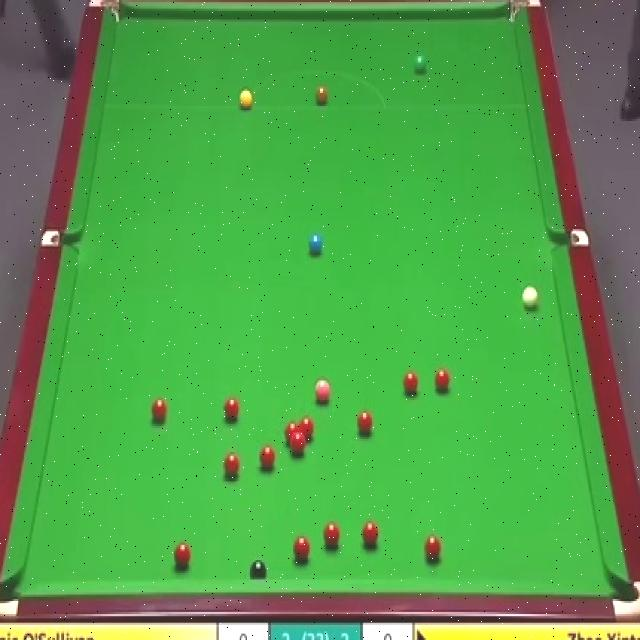black-ball: (249, 560, 267, 580)
blue-ball: (307, 229, 323, 257)
brown-ball: (315, 86, 328, 105)
green-ball: (411, 55, 428, 75)
pink-ball: (314, 374, 332, 404)
red-ball: (223, 450, 241, 480), (402, 369, 419, 400), (174, 541, 192, 569), (361, 520, 379, 548), (424, 534, 442, 562), (356, 409, 373, 437), (150, 397, 168, 423), (324, 522, 341, 549), (434, 369, 451, 395), (294, 535, 310, 562), (223, 398, 239, 423), (300, 417, 314, 444), (260, 445, 275, 470), (285, 421, 299, 443), (291, 435, 305, 456)
white-ball: (519, 280, 539, 310)
yellow-ball: (238, 88, 253, 109)
